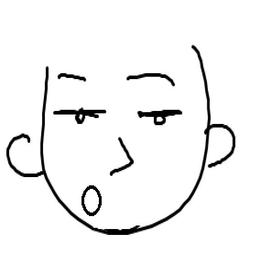ear: (4, 128, 48, 180), (197, 120, 239, 168)
eyebrow: (125, 68, 177, 89), (55, 70, 93, 84)
open_mouth: (79, 181, 104, 217)
pointy_nose: (107, 134, 135, 186)
small_eye: (55, 102, 107, 128), (135, 107, 186, 130)
